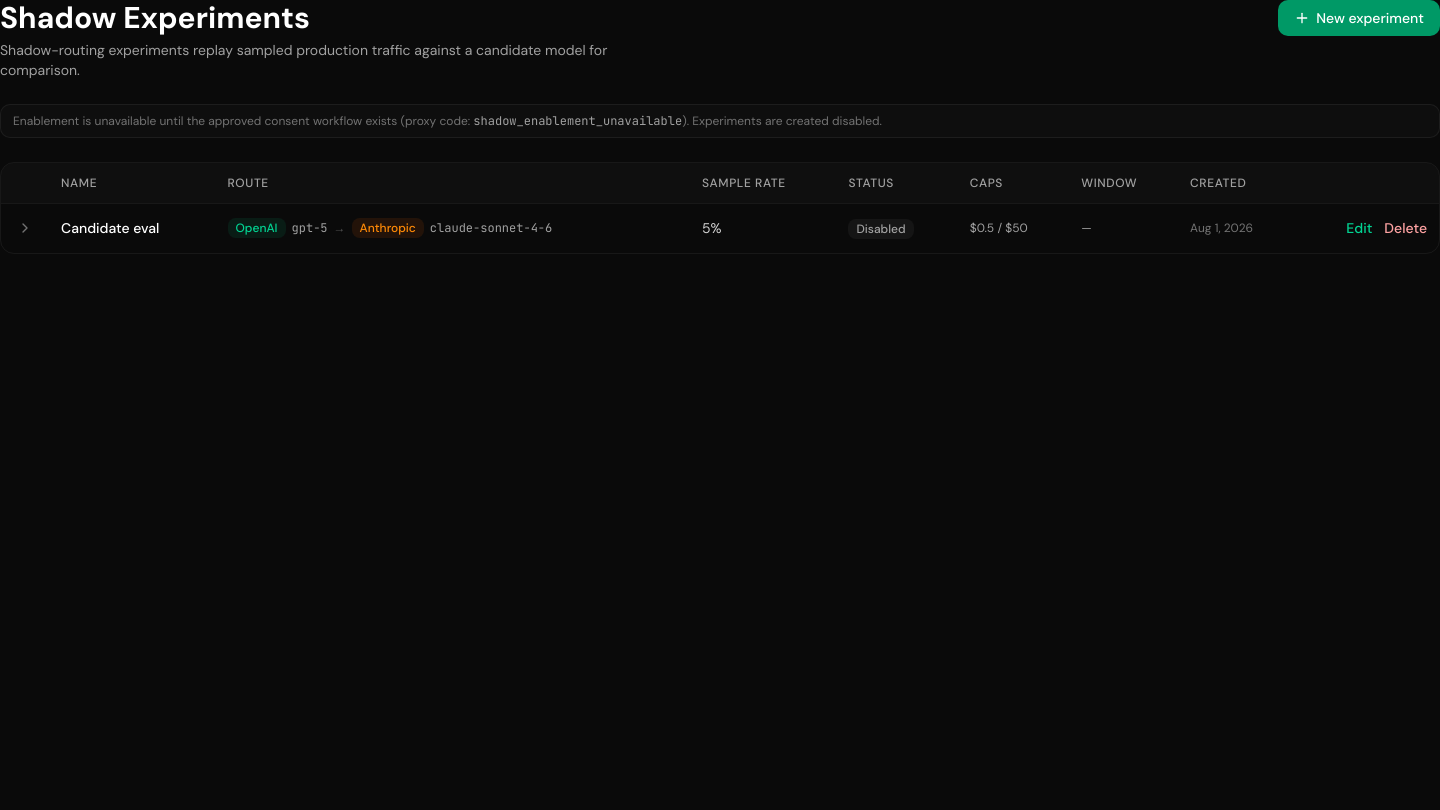
Scenario: ShadowExperimentsClient proxy states › shows the delete failure message and proxy code verbatim in the dialog
This screenshot has width=1440, height=810.
Expected: the text "Candidate eval" is shown, [49, 203, 216, 252]
Click the button with aria-label "Delete Candidate eval": (1406, 228) [1384, 218, 1427, 238]
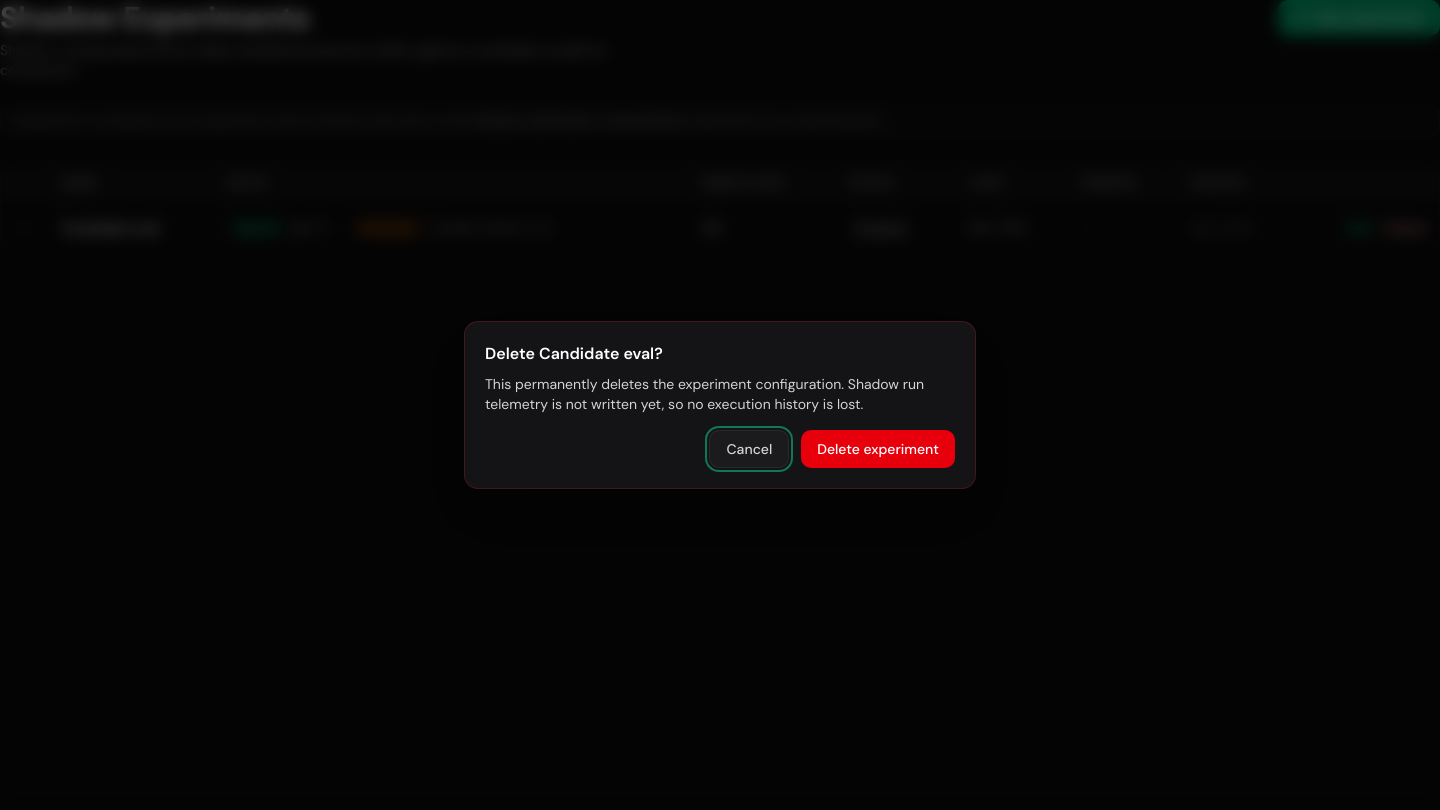
Expected: the dialog is shown, [464, 321, 976, 489]
Click the button with aria-label "Confirm delete Candidate eval": (878, 449) [801, 430, 955, 468]
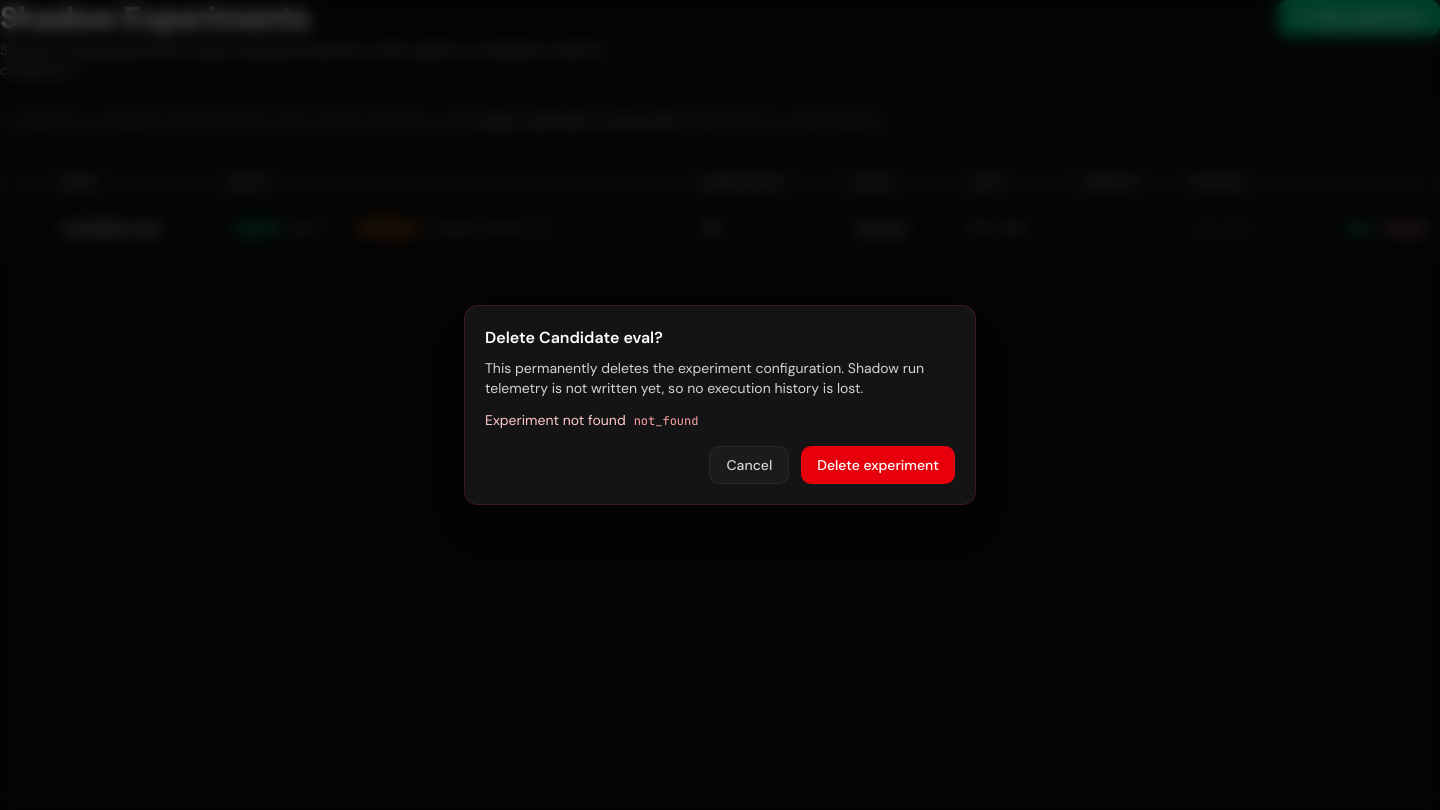
Expected: the text "Experiment not found" is shown, [485, 411, 626, 429]
Expected: the text "not_found" is shown, [634, 413, 698, 429]
